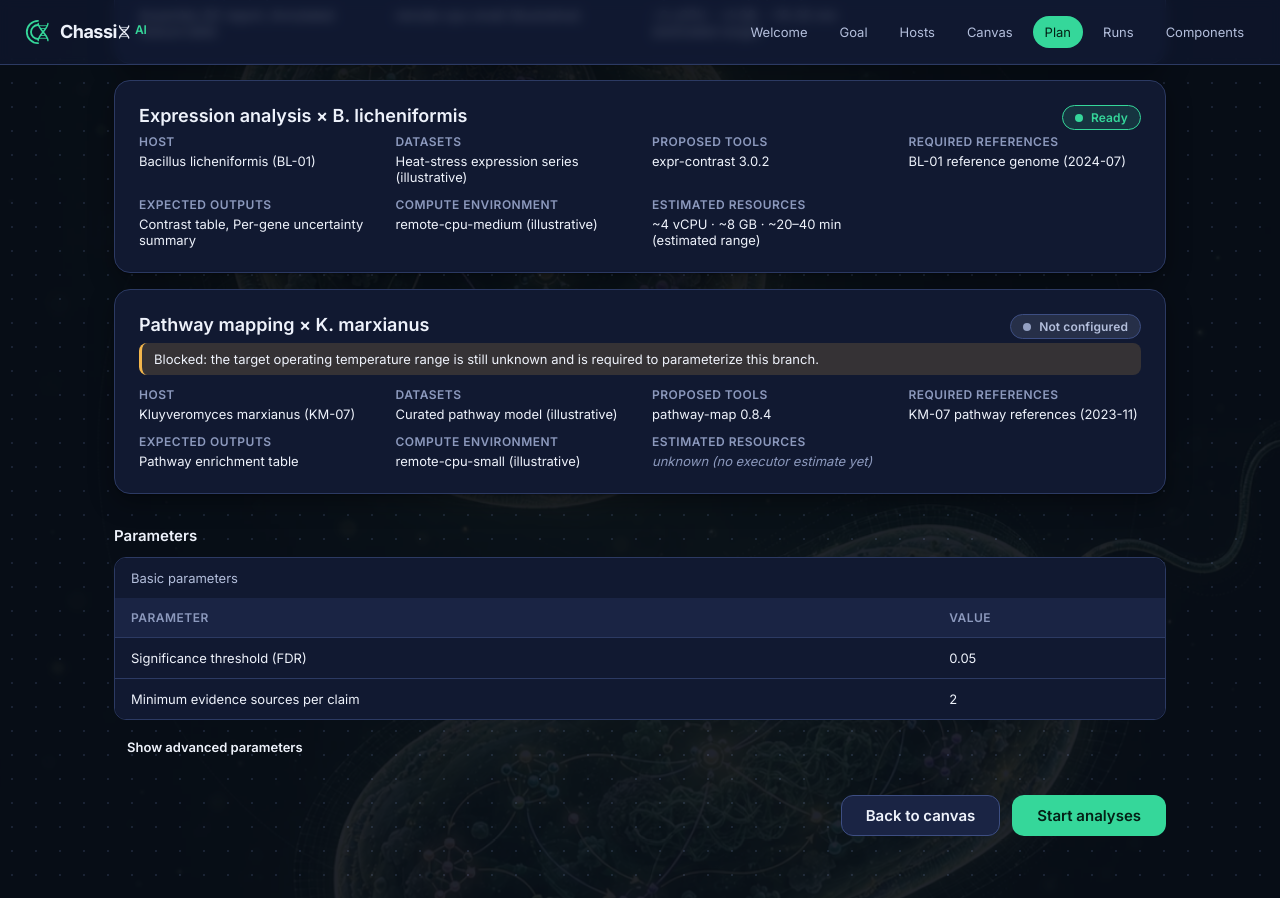
PlanReviewPage (Step 3.2, Screen 4 / BF-05) › keeps advanced parameters collapsed until expanded
(page scrolled)
Click the button "Show advanced parameters" at x=215, y=748, box [114,732,316,763]
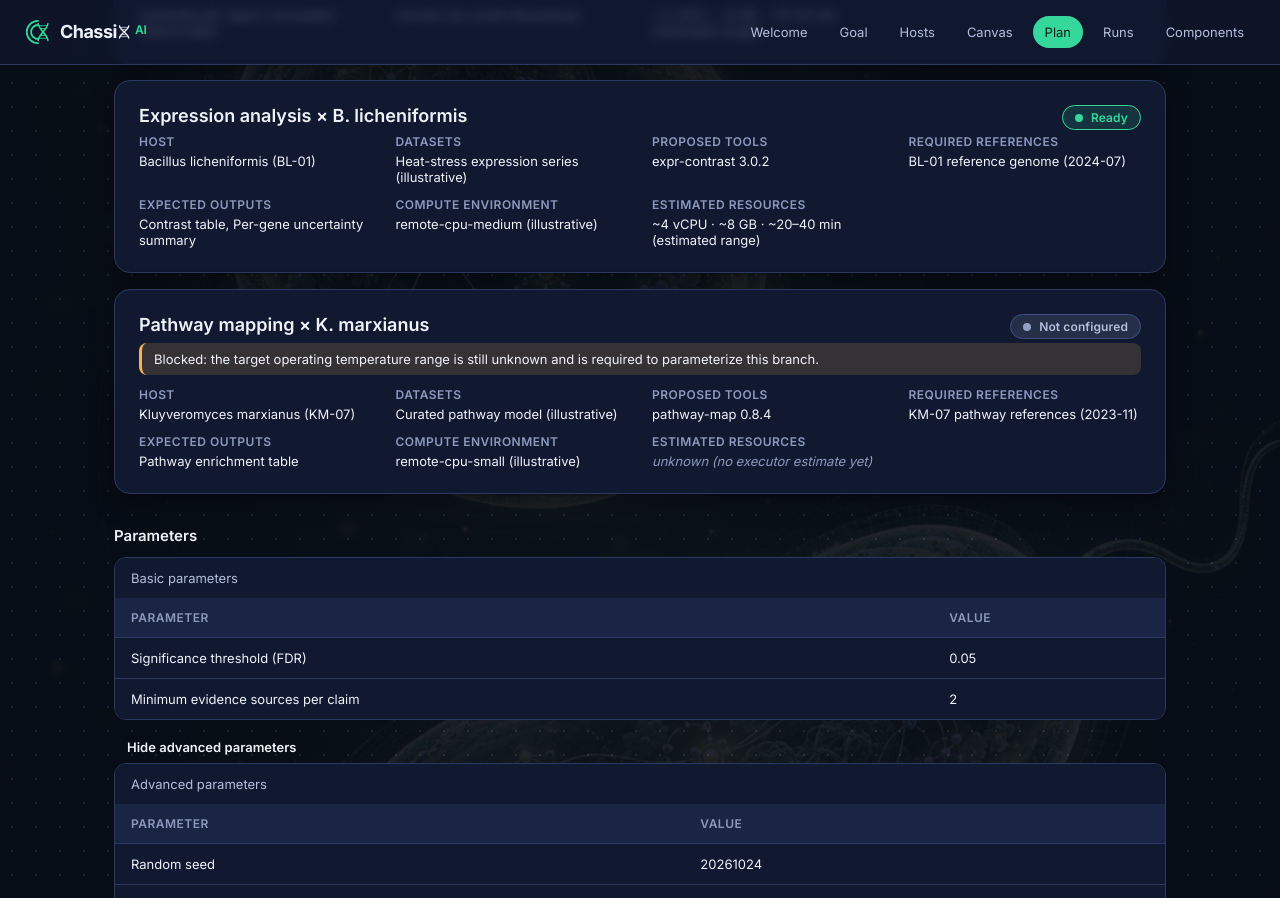
expect the text "Random seed" is shown: met, box [115,844,684,884]
